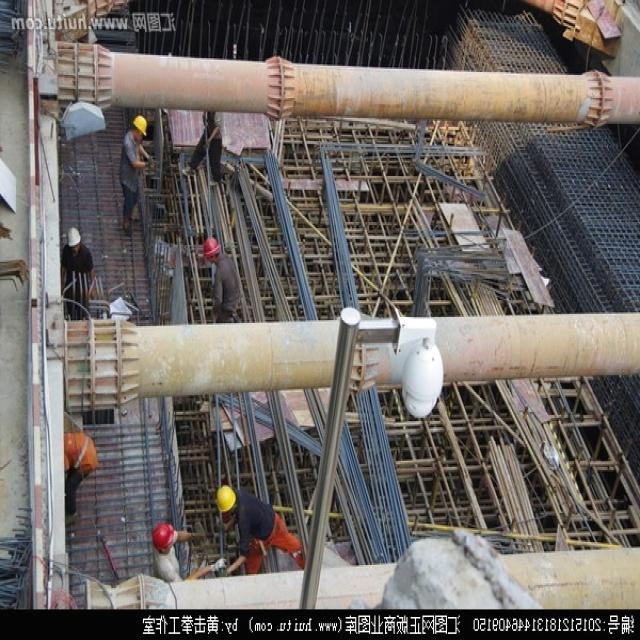Con_Casco: (153, 521, 176, 554), (215, 484, 234, 515), (131, 114, 149, 142)
